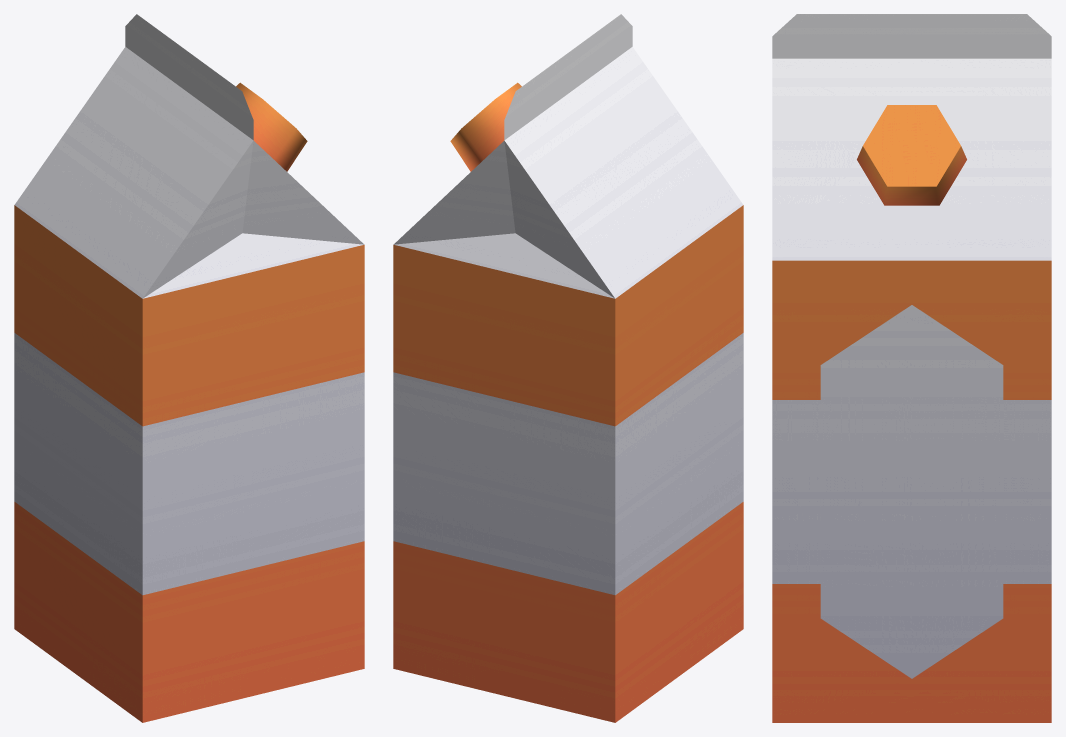
File: Prop_JuiceCarton.glb
The picture shows the model from 3 angles, left to right: view 1: azimuth 30°, elevation 25°; view 2: azimuth 150°, elevation 25°; view 3: azimuth 270°, elevation 25°; orthographic projection. The views are drawn at different scales.
Visible parts, largest first — view 1: Prop_JuiceCarton; view 2: Prop_JuiceCarton; view 3: Prop_JuiceCarton.
Boxes of the visible parts, x1,y1,x2,y2 form: Prop_JuiceCarton: (14, 14, 364, 722); Prop_JuiceCarton: (393, 14, 743, 722); Prop_JuiceCarton: (772, 14, 1051, 722).
Bounding box in the file's own units: 0.23 × 0.5905 × 0.23.
1 material, 1 textured.
